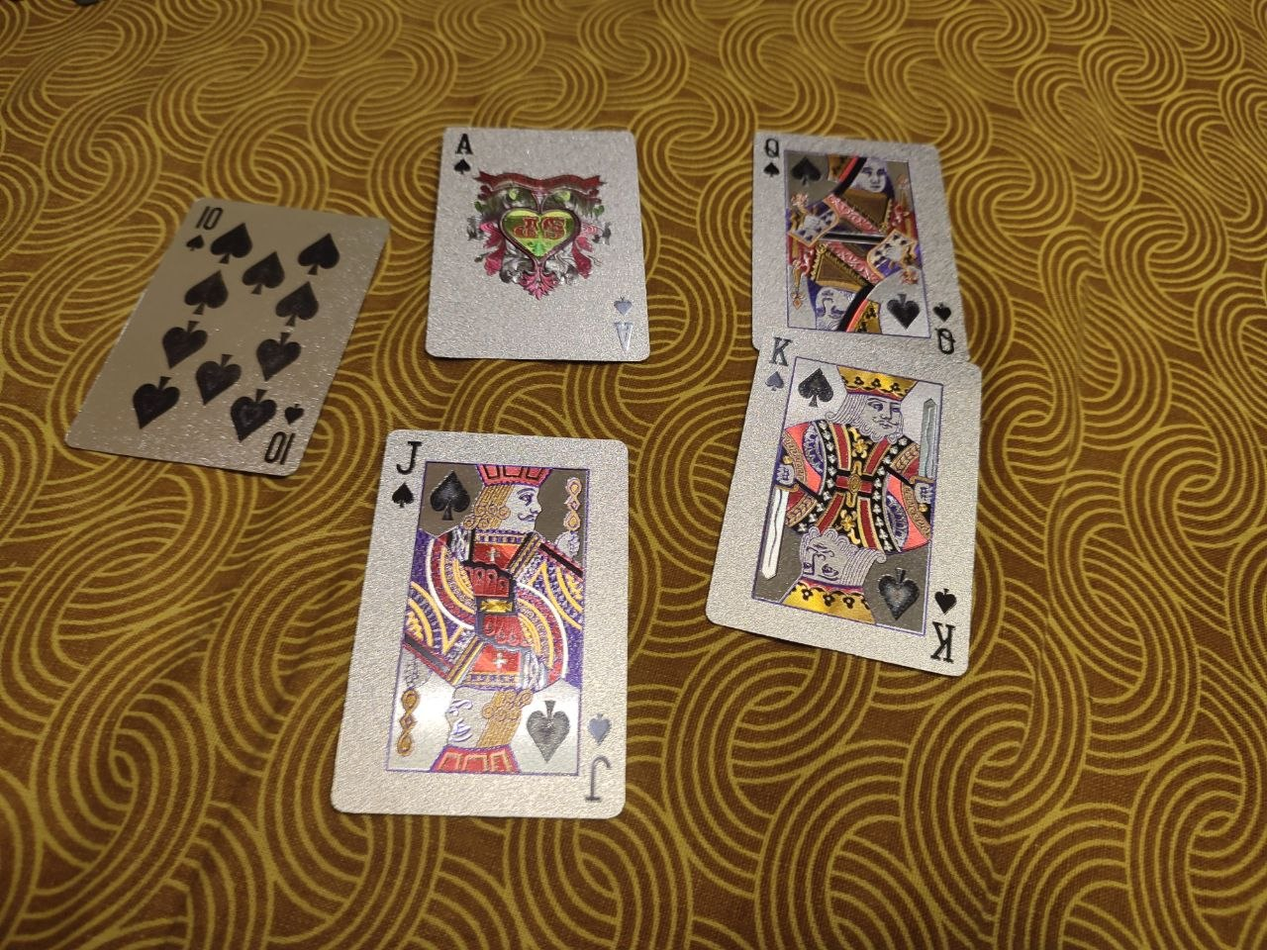10S: (62, 196, 393, 477)
AS: (421, 122, 653, 364)
JS: (329, 427, 630, 821)
KS: (704, 330, 983, 676)
QS: (749, 126, 971, 365)
